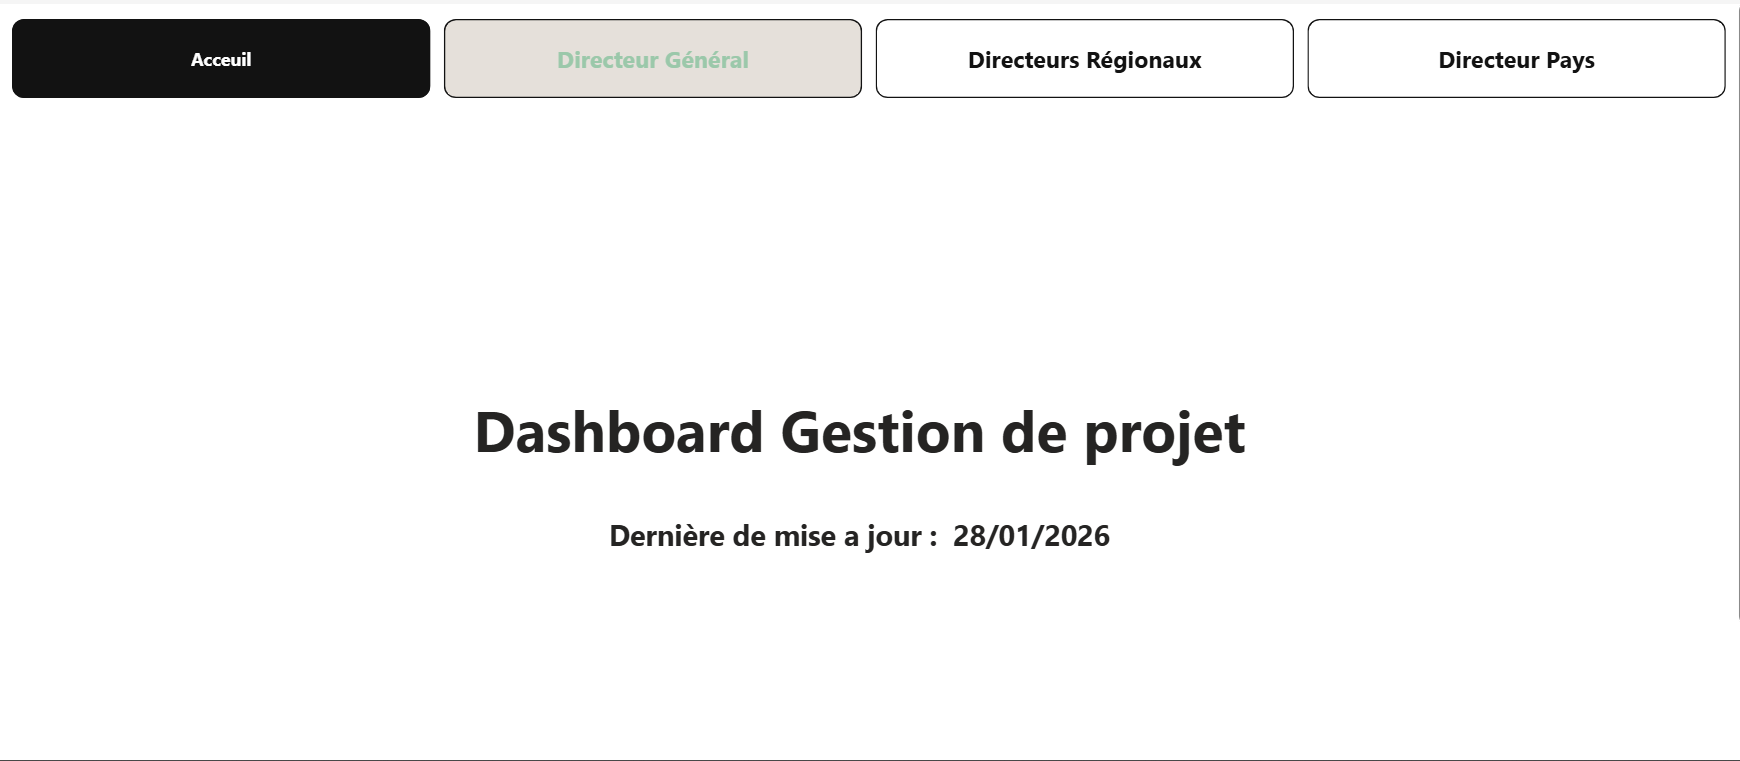

Layout of this report page (visuals, bound fields, positions):
{"tool":"powerbi","page":{"name":"Acceuil","canvas":[1280,720],"ordinal":0},"visuals":[{"type":"textbox","box":[0,272,1280,192],"z":1000},{"type":"pageNavigator","box":[0,0,1279.9,59],"z":2500}]}

Visuals, with their boxes on the page's 1280x720 design canvas (x1, y1, x2, y2). These are canvas units, not pixel positions in the 1740x761 screenshot, which may show the page scaled, cropped or inside an application window:
textbox: x1=0 y1=272 x2=1280 y2=464
pageNavigator: x1=0 y1=0 x2=1280 y2=59
